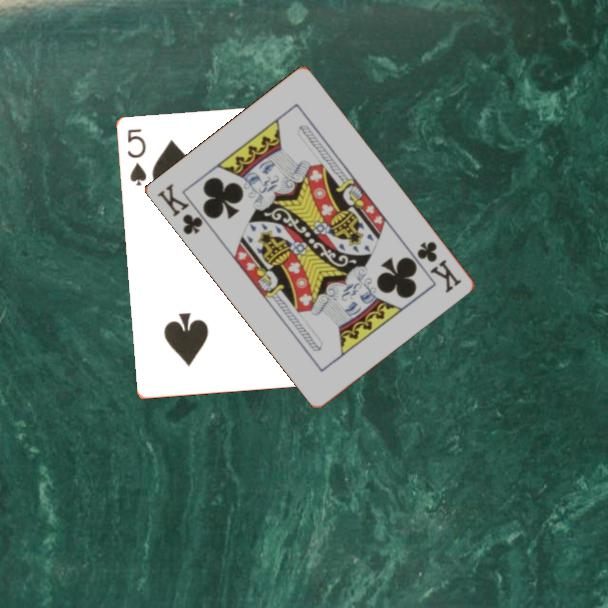c13: (154, 180, 206, 238), (414, 238, 465, 296)
s05: (124, 126, 150, 189)
